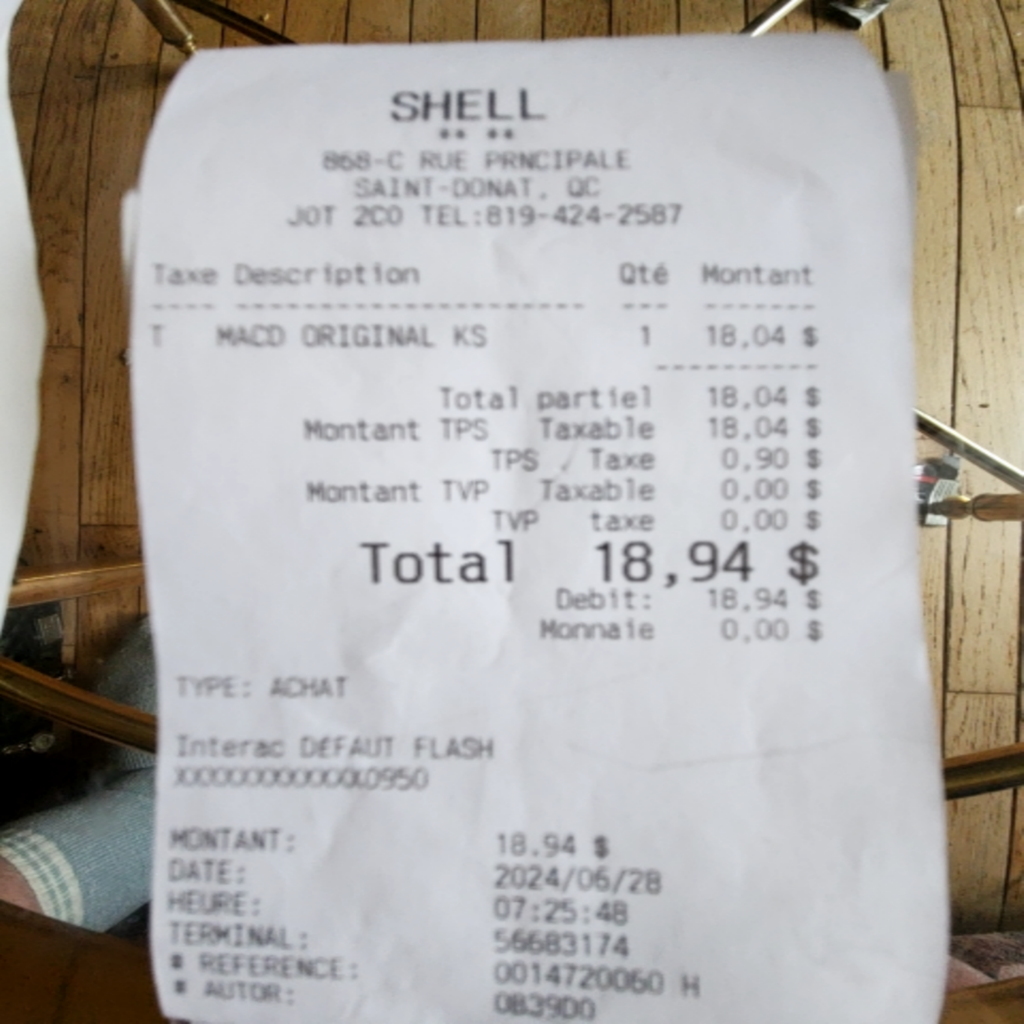recipt: (130, 40, 946, 1018)
